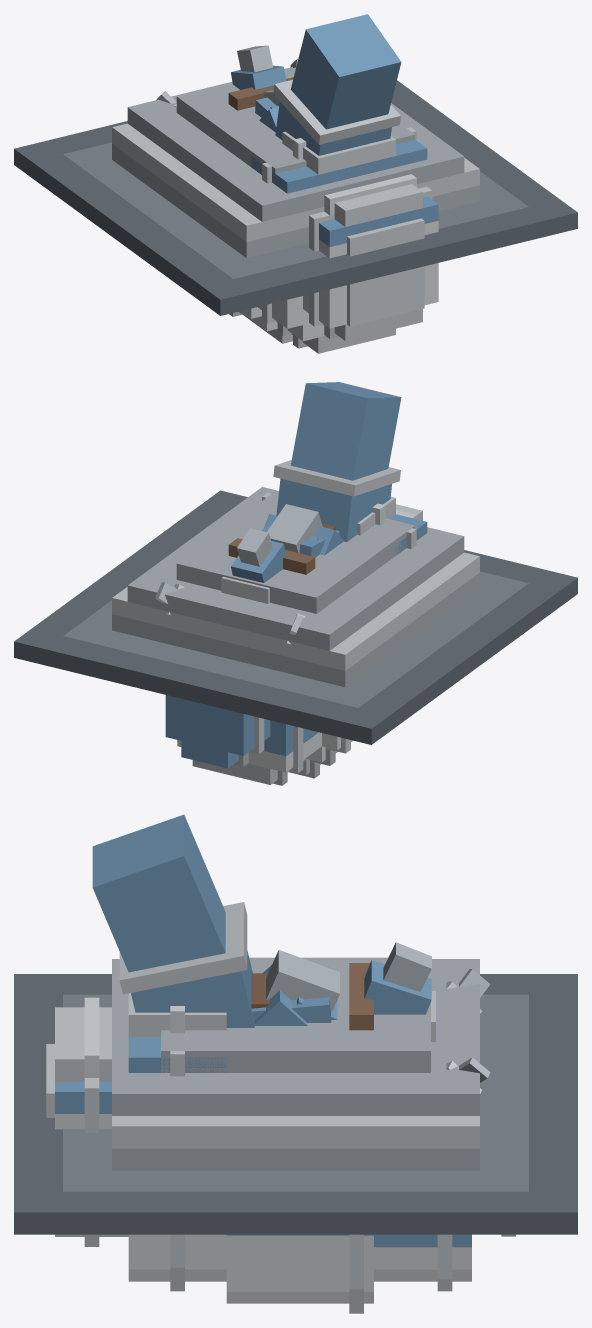
File: Trainer5.glb
3 views of the same model, one above another, from view 1: azimuth 30°, elevation 25°; view 2: azimuth 150°, elevation 25°; view 3: azimuth 270°, elevation 25° (orthographic). The views are drawn at different scales.
Visible parts, largest first — view 1: Stand, Body, Head; view 2: Stand, Body, Head, Fin, T1; view 3: Stand, Body, Head, Fin, T1, T2.
Boxes of the visible parts, x1,y1,x2,y2 form: Stand: (14,67,577,315); Body: (228,14,438,353); Head: (156,45,298,106); Stand: (14,487,577,744); Body: (165,382,427,785); Head: (155,528,305,644); Fin: (267,504,322,552); T1: (263,514,343,555); Stand: (14,957,577,1234); Body: (46,814,515,1313); Head: (364,942,490,1093); Fin: (266,950,339,1012); T1: (254,965,307,1025); T2: (252,967,331,1022).
Bounding box in the file's own units: 9.2 × 8.09 × 9.2.
